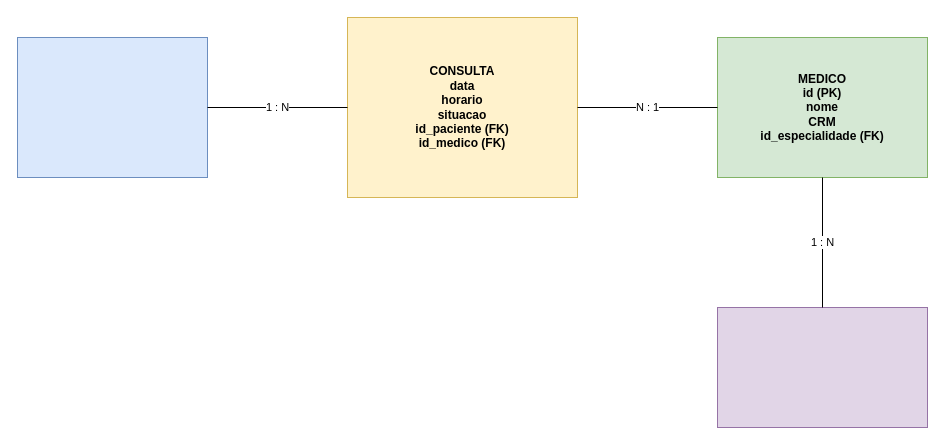
Image size: 945x445. Some labels were removed from this diagram. The shapes that lost their labels are listed below. From the top down, each one's box as (x1, y1, x2, y2) in pixels, then its label:
(16, 36, 208, 178): PACIENTE id (PK) nome nascimento telefone
(716, 306, 928, 428): ESPECIALIDADE id (PK) nome descricao
